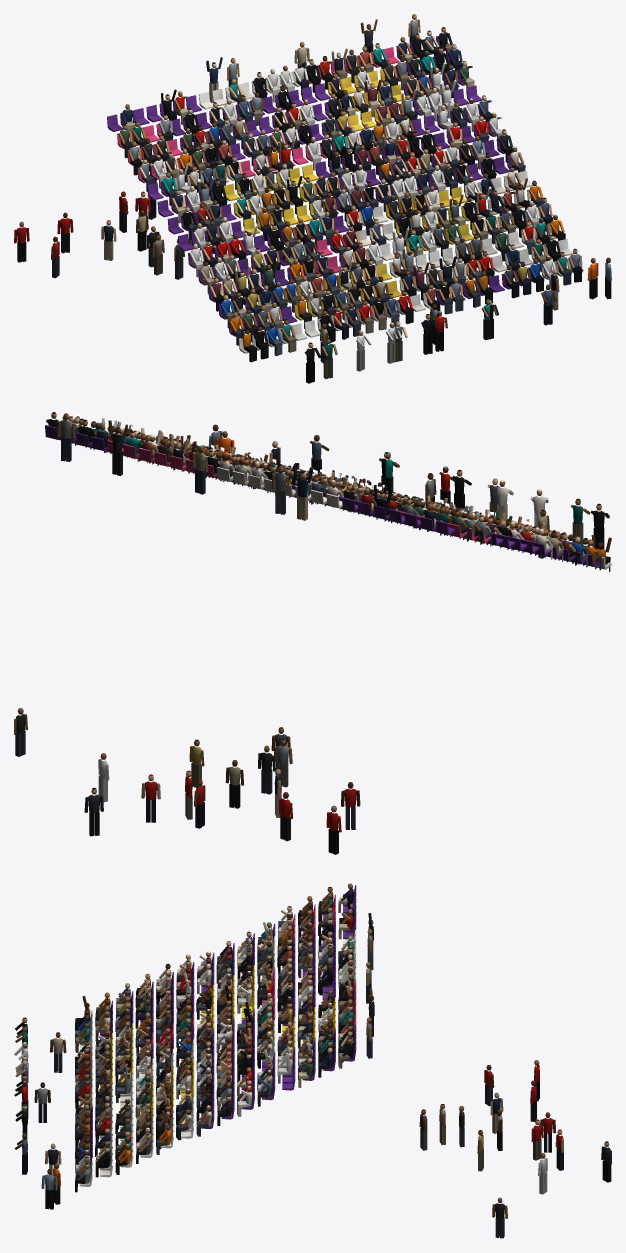
File: stand_main_kit_2.glb
3 views of the same model, one above another, from view 1: azimuth 30°, elevation 25°; view 2: azimuth 150°, elevation 25°; view 3: azimuth 270°, elevation 25° (orthographic). The views are drawn at different scales.
Parts seen in each view (by area): view 1: kit_2; view 2: kit_2; view 3: kit_2.
Part boxes in pixels (x1,y1,x2,y2): kit_2: (14,14,611,383); kit_2: (14,412,611,854); kit_2: (14,883,611,1238).
Bounding box in the file's own units: 16.11 × 10.3 × 23.61.
